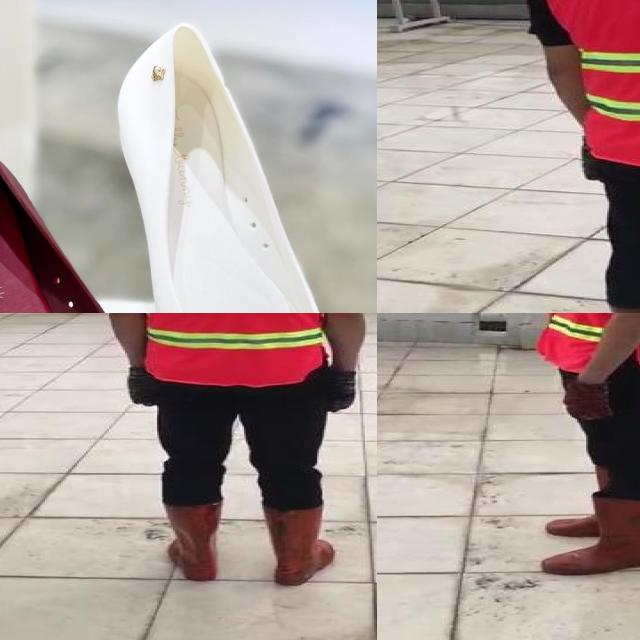Sandals: (100, 18, 377, 313), (0, 103, 220, 313)
boots: (543, 499, 640, 577), (538, 465, 638, 537), (262, 503, 335, 588), (160, 502, 222, 581)
hand_glove: (563, 380, 613, 419), (126, 368, 160, 408), (328, 369, 358, 412)
person: (86, 313, 377, 597), (509, 313, 640, 593), (528, 0, 640, 313)
vest: (546, 0, 640, 173), (123, 313, 333, 386), (540, 313, 634, 374)
